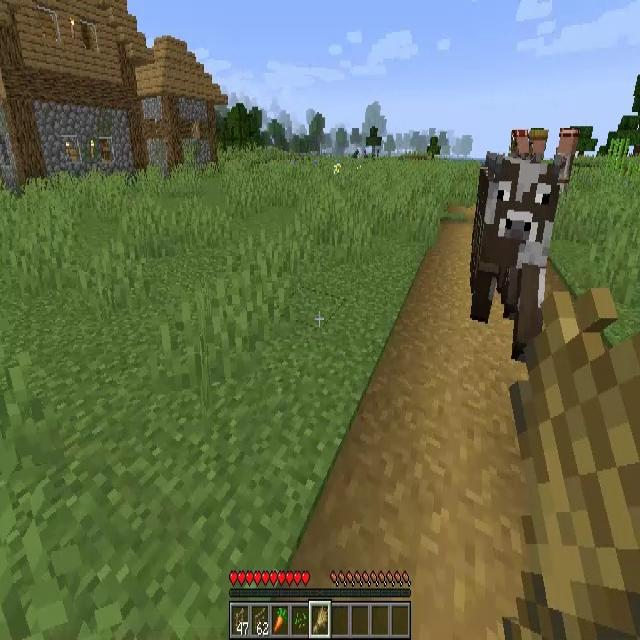cow: (473, 153, 557, 354)
people: (555, 128, 580, 197), (529, 128, 550, 160), (512, 130, 530, 157)
